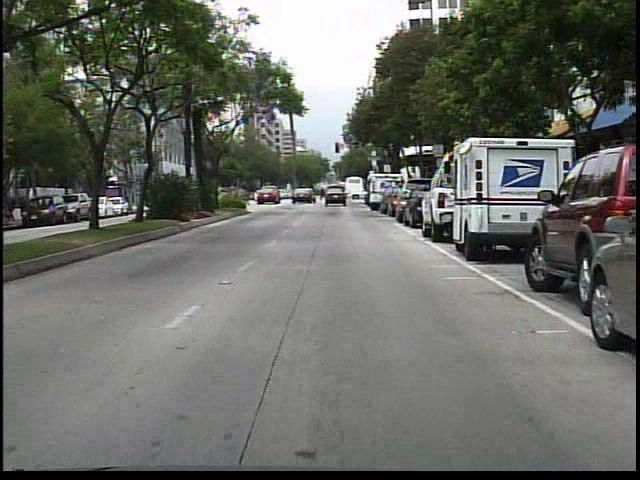person: (293, 182, 309, 206), (320, 183, 328, 203)
